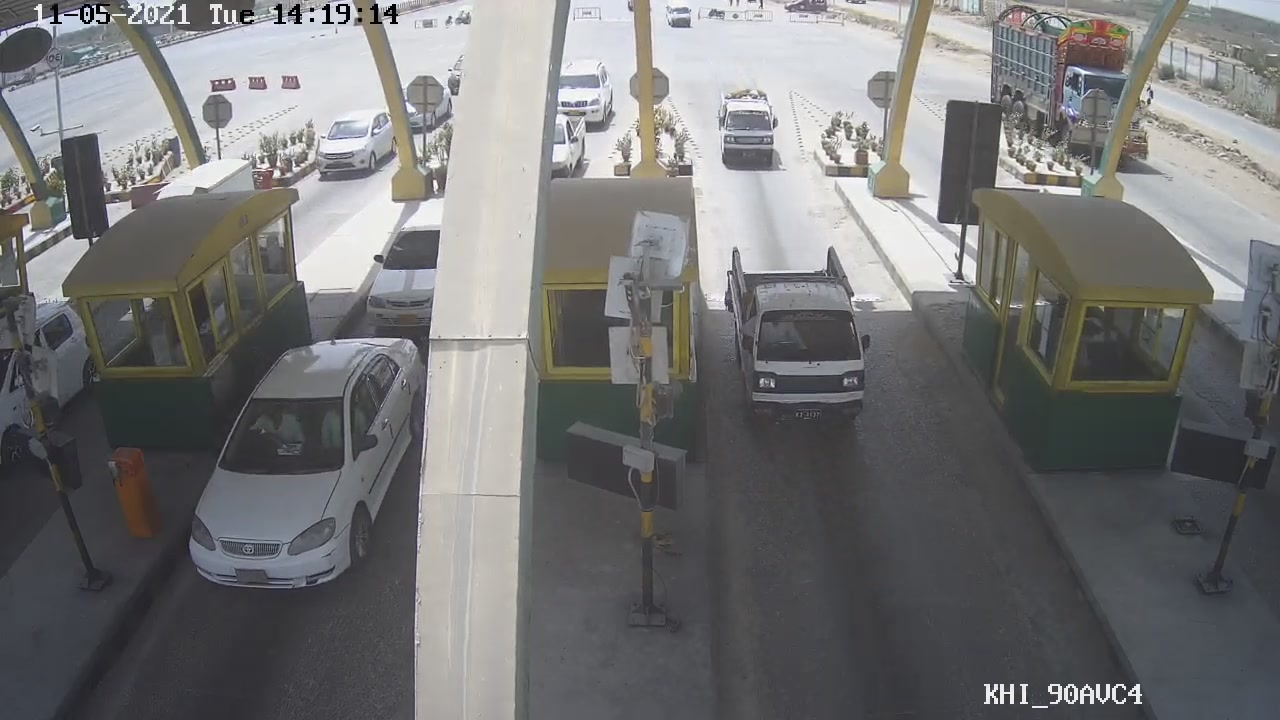F1: (712, 254, 873, 437)
